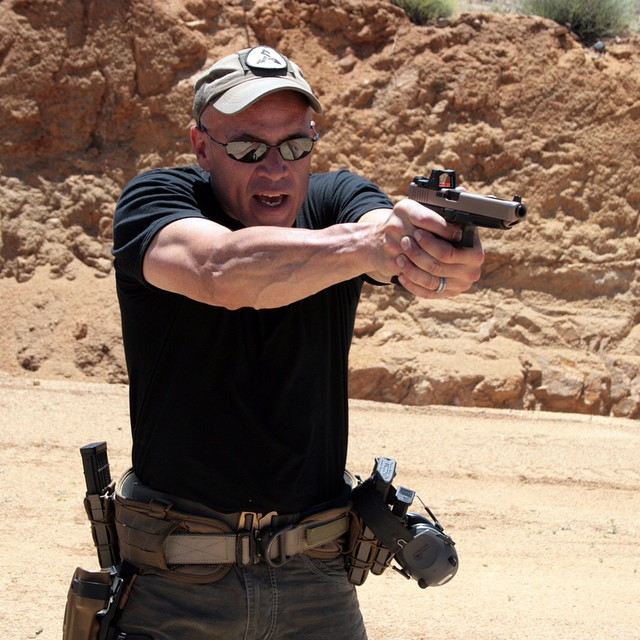gun: (403, 154, 530, 304)
